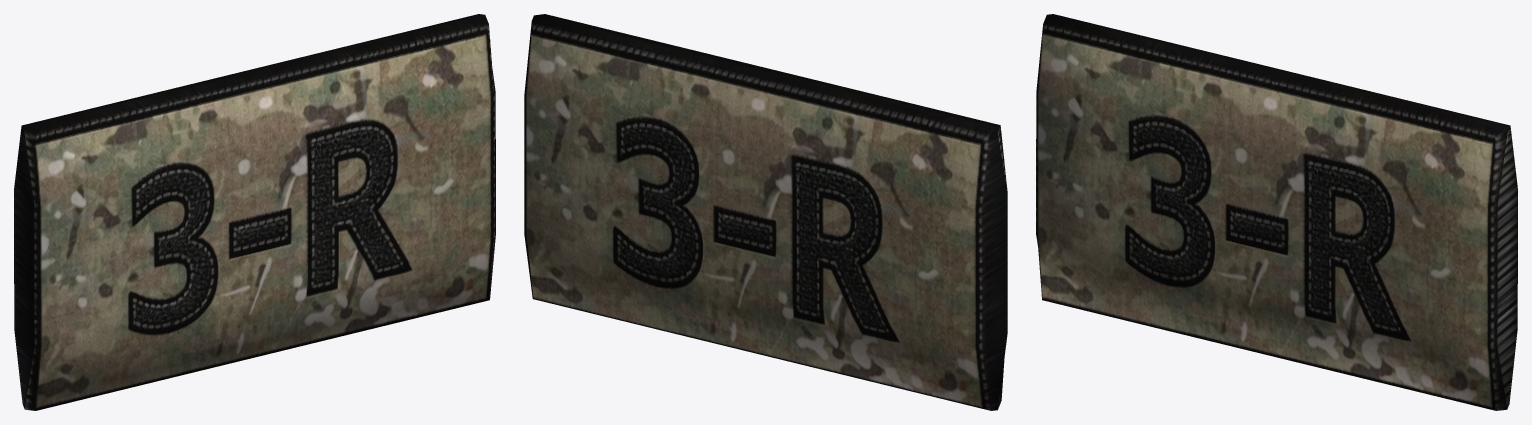
File: Havoc3R.fbx
The picture shows the model from 3 angles, left to right: view 1: azimuth 30°, elevation 25°; view 2: azimuth 150°, elevation 25°; view 3: azimuth 330°, elevation 25°; orthographic projection.
Parts seen in each view (by area): view 1: FlagPatch; view 2: FlagPatch; view 3: FlagPatch.
Part boxes in pixels (x1=…): FlagPatch: x1=14, y1=14, x2=495, y2=410; FlagPatch: x1=524, y1=14, x2=1007, y2=410; FlagPatch: x1=1036, y1=14, x2=1517, y2=410.
Bounding box in the file's own units: 9.23 × 5.38 × 0.9201.
